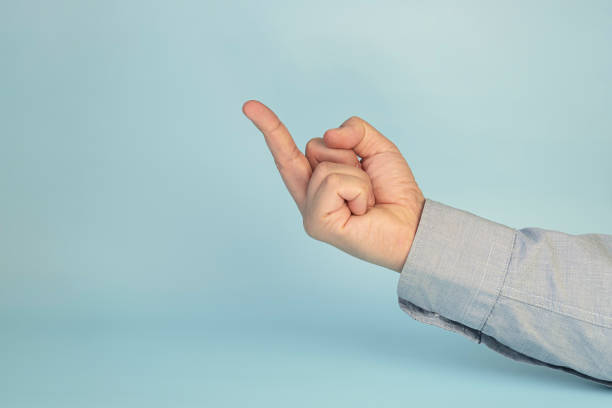insulting_gesture: (238, 94, 406, 272)
